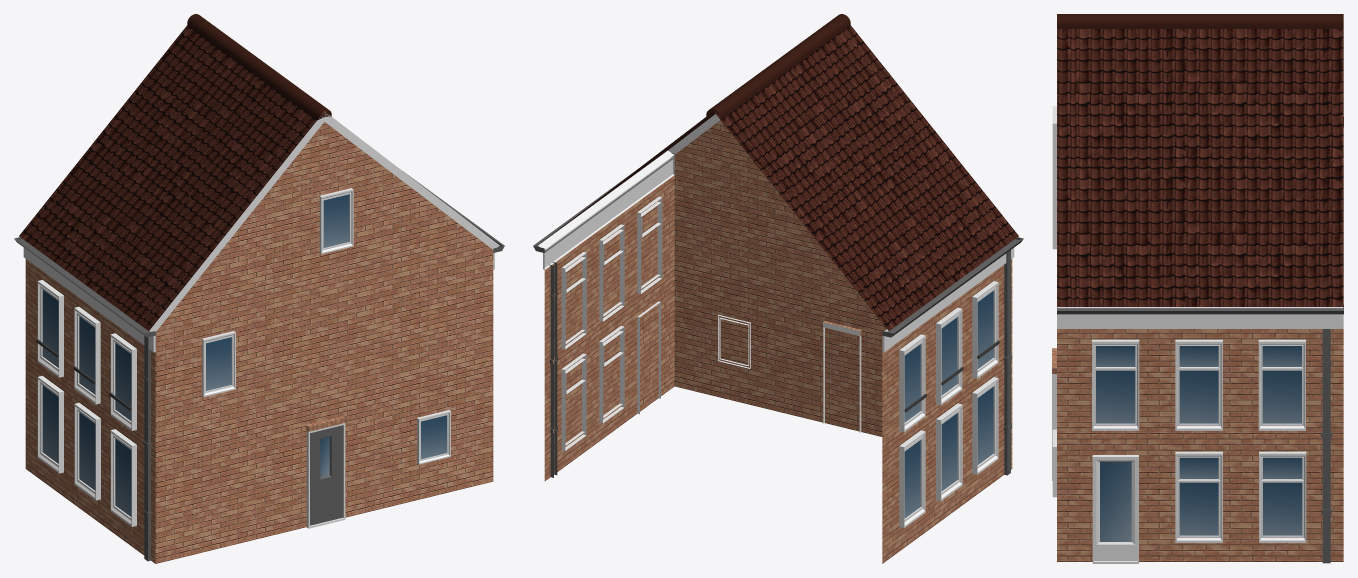
The model's file is Buorkerij_21.fbx.
The picture shows the model from 3 angles, left to right: view 1: azimuth 30°, elevation 25°; view 2: azimuth 150°, elevation 25°; view 3: azimuth 270°, elevation 25°; orthographic projection. The views are drawn at different scales.
Parts seen in each view (by area): view 1: Buorkerij_21; view 2: Buorkerij_21; view 3: Buorkerij_21.
Boxes of the visible parts, bbox=[...] form: Buorkerij_21: bbox=[14, 14, 504, 563]; Buorkerij_21: bbox=[533, 14, 1023, 563]; Buorkerij_21: bbox=[1052, 14, 1343, 563].
Bounding box in the file's own units: 929 × 1018 × 590.
